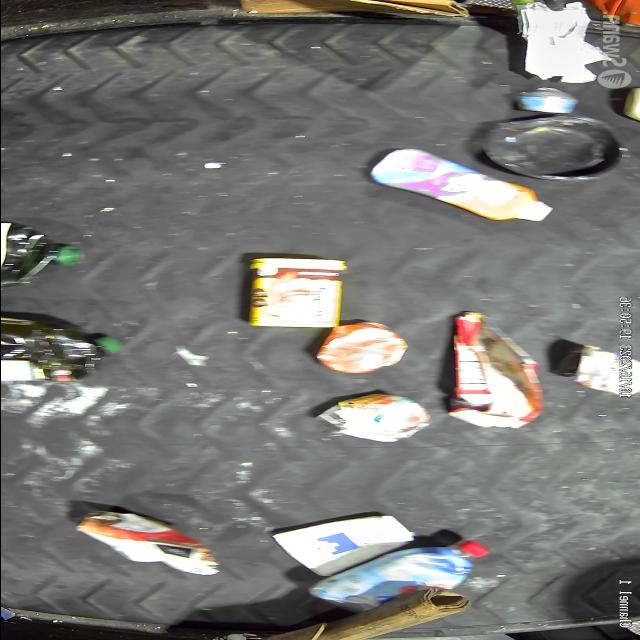can: (494, 80, 582, 114)
non_white_jug: (308, 539, 496, 615), (248, 257, 348, 329)
